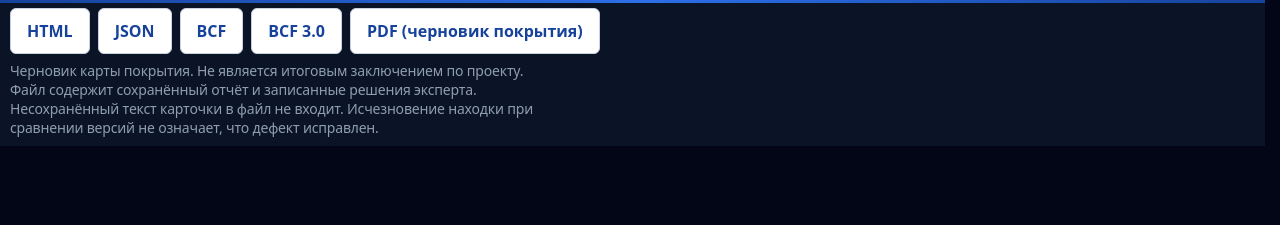
ExportActionsBar › shows a category alert without leaking export diagnostics
This screenshot has width=1280, height=225.
Click the button "HTML": (50, 31) x1=10 y1=8 x2=90 y2=54
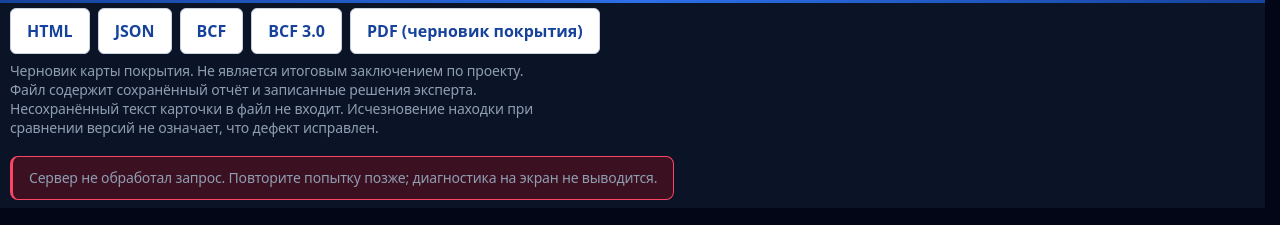
Expected: the message with test id "export-error" shows "Сервер не обработал запрос. Повторите попытку позже; диагностика на экран не выводится.", x1=29 y1=168 x2=657 y2=187
Click the button "JSON": (135, 31) x1=98 y1=8 x2=172 y2=54
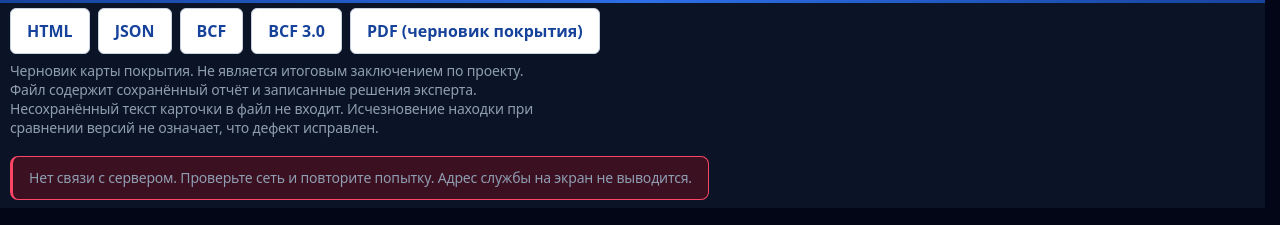
Expected: the message with test id "export-error" shows "Нет связи с сервером. Проверьте сеть и повторите попытку. Адрес службы на экран не выводится.", x1=29 y1=168 x2=692 y2=187
